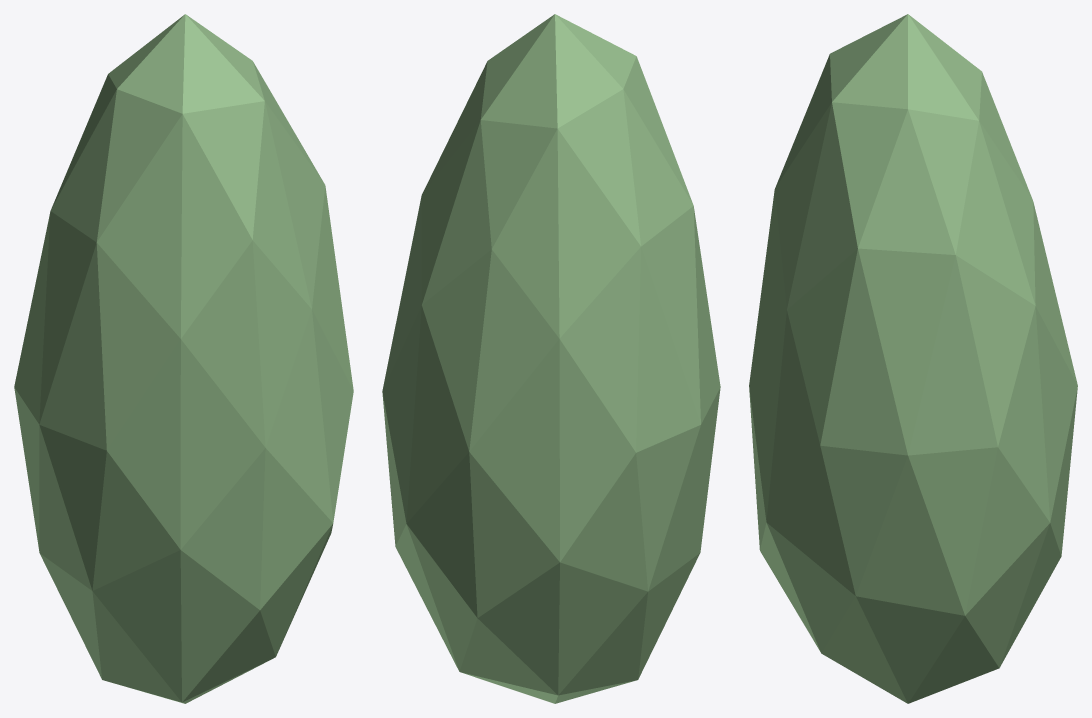
File: tree-broadleaf-c-crown-far.glb
The picture shows the model from 3 angles, left to right: view 1: azimuth 30°, elevation 25°; view 2: azimuth 150°, elevation 25°; view 3: azimuth 270°, elevation 25°; orthographic projection.
Visible parts, largest first — view 1: tree-broadleaf-c-crown-far; view 2: tree-broadleaf-c-crown-far; view 3: tree-broadleaf-c-crown-far.
Part boxes in pixels (left/top/right/bottom): tree-broadleaf-c-crown-far: left=14, top=14, right=353, bottom=703; tree-broadleaf-c-crown-far: left=382, top=14, right=720, bottom=703; tree-broadleaf-c-crown-far: left=749, top=14, right=1077, bottom=703.
Size of the model in its own units: 0.3378 by 0.7669 by 0.3343.
